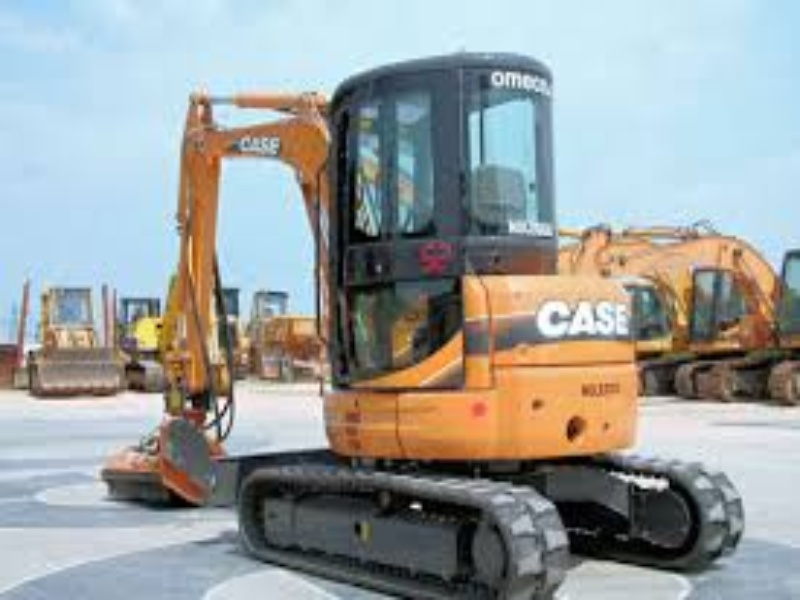wajueji: (111, 33, 759, 600)
